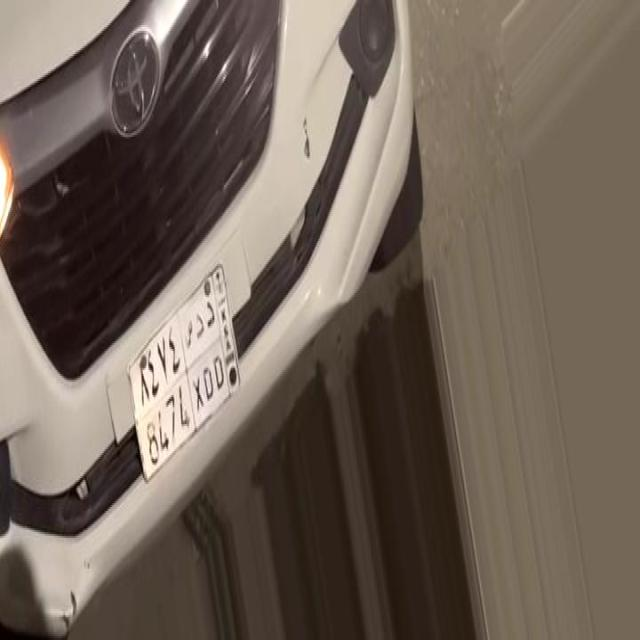Car-plate: (111, 226, 270, 514)
